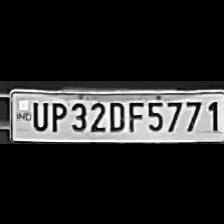1: (202, 97, 222, 131)
2: (87, 98, 105, 132)
3: (67, 98, 87, 132)
5: (144, 97, 164, 131)
7: (180, 98, 202, 132), (164, 97, 182, 131)
D: (105, 97, 124, 131)
F: (126, 97, 144, 132)
P: (47, 98, 66, 132)
U: (29, 98, 48, 130)
